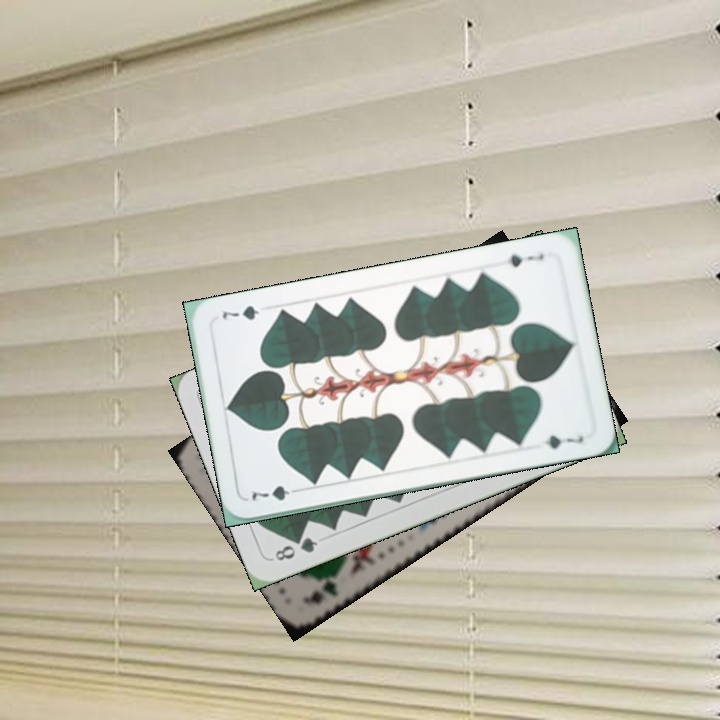G7: (247, 481, 304, 504), (496, 249, 547, 270)
G8: (268, 533, 321, 564)
GK: (298, 568, 345, 608)
